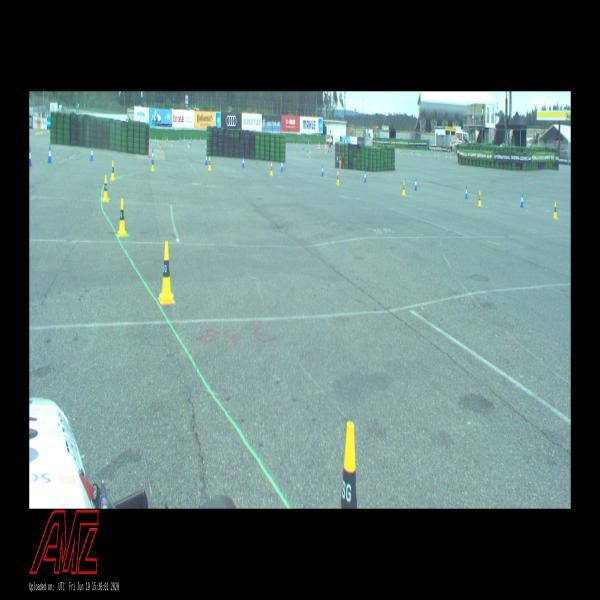blue_cone: (48, 146, 52, 163), (90, 147, 94, 161), (30, 148, 32, 166), (205, 154, 208, 165), (242, 157, 245, 168), (321, 165, 324, 176), (414, 179, 417, 190), (521, 194, 523, 207), (281, 160, 283, 172), (152, 150, 154, 162), (465, 187, 467, 198), (364, 172, 366, 182)
yellow_cone: (341, 421, 357, 508), (158, 241, 175, 304), (117, 198, 127, 236), (102, 176, 109, 202), (111, 161, 115, 181), (553, 203, 557, 218), (208, 156, 212, 171), (151, 157, 155, 171), (478, 191, 481, 207), (402, 181, 405, 196), (270, 163, 273, 176), (337, 172, 340, 185)
